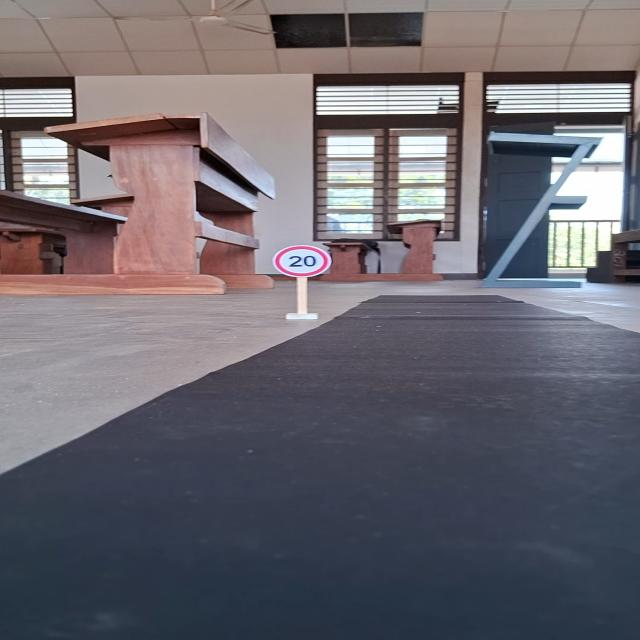Speed20: (271, 243, 334, 282)
